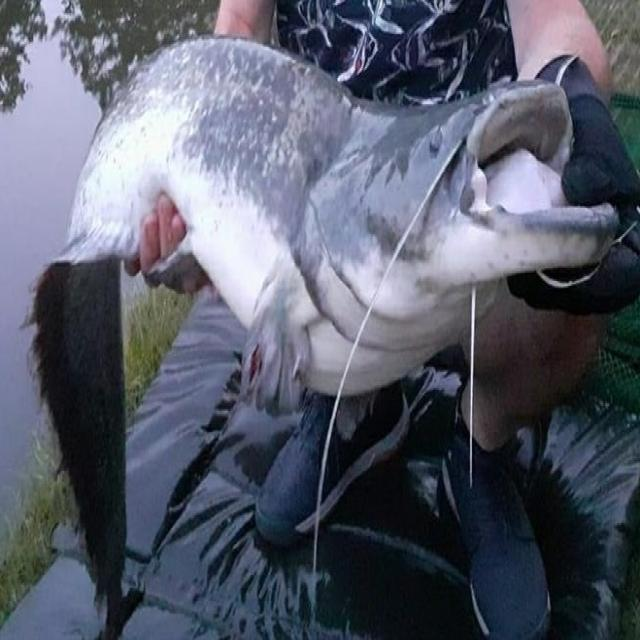Catfish: (47, 26, 635, 620)
